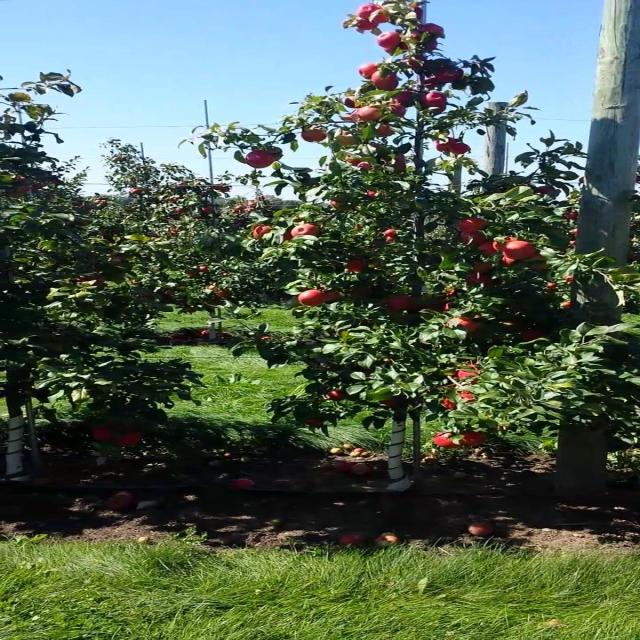apple: (502, 240, 536, 260), (244, 150, 276, 169), (371, 70, 398, 91), (447, 316, 482, 332), (456, 362, 480, 383), (433, 66, 464, 82), (376, 31, 400, 51), (384, 295, 413, 311), (467, 272, 500, 286), (371, 73, 398, 90), (433, 432, 460, 449), (522, 254, 549, 271), (298, 289, 324, 306), (113, 431, 142, 446), (460, 430, 487, 446), (422, 91, 447, 108), (402, 54, 427, 71), (356, 2, 380, 19), (458, 218, 487, 232), (460, 231, 487, 246), (518, 328, 549, 341), (333, 130, 358, 146), (356, 106, 382, 121), (300, 128, 327, 142), (73, 275, 104, 287), (384, 99, 407, 115), (405, 52, 431, 66), (418, 22, 444, 36), (91, 426, 113, 442), (382, 41, 409, 54), (358, 62, 378, 79), (292, 224, 320, 236), (393, 90, 413, 106), (433, 137, 455, 151), (449, 141, 471, 155), (422, 75, 444, 89), (356, 18, 378, 32), (251, 224, 271, 239), (369, 9, 389, 24), (478, 241, 498, 256), (344, 259, 367, 272), (73, 274, 101, 284), (324, 389, 347, 401), (389, 101, 407, 116), (340, 110, 362, 122), (349, 286, 371, 298), (473, 261, 493, 273), (376, 124, 393, 138), (436, 138, 453, 152), (279, 228, 295, 242), (440, 398, 458, 410), (458, 390, 476, 402), (410, 3, 424, 18), (328, 198, 345, 210), (536, 185, 556, 195), (322, 291, 340, 302), (422, 39, 438, 51), (379, 396, 398, 406), (430, 104, 446, 115), (500, 255, 516, 266), (342, 96, 356, 108), (344, 155, 362, 164), (357, 160, 372, 170), (442, 136, 457, 146), (307, 418, 322, 428), (382, 228, 398, 237), (382, 230, 396, 240), (394, 158, 405, 170), (393, 161, 405, 172), (282, 229, 293, 241), (408, 31, 421, 41), (364, 189, 378, 198), (501, 235, 518, 242), (329, 199, 340, 208), (560, 300, 572, 308), (258, 335, 273, 341), (353, 224, 361, 230)
